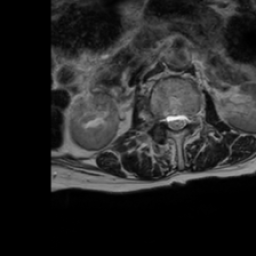CCS_stenosis: (173, 106, 180, 137)
LFS_normal: (188, 106, 196, 131)
LLS_normal: (180, 105, 188, 134)
RFS_stenosis: (157, 107, 165, 129)
RLS_normal: (165, 108, 173, 132)
